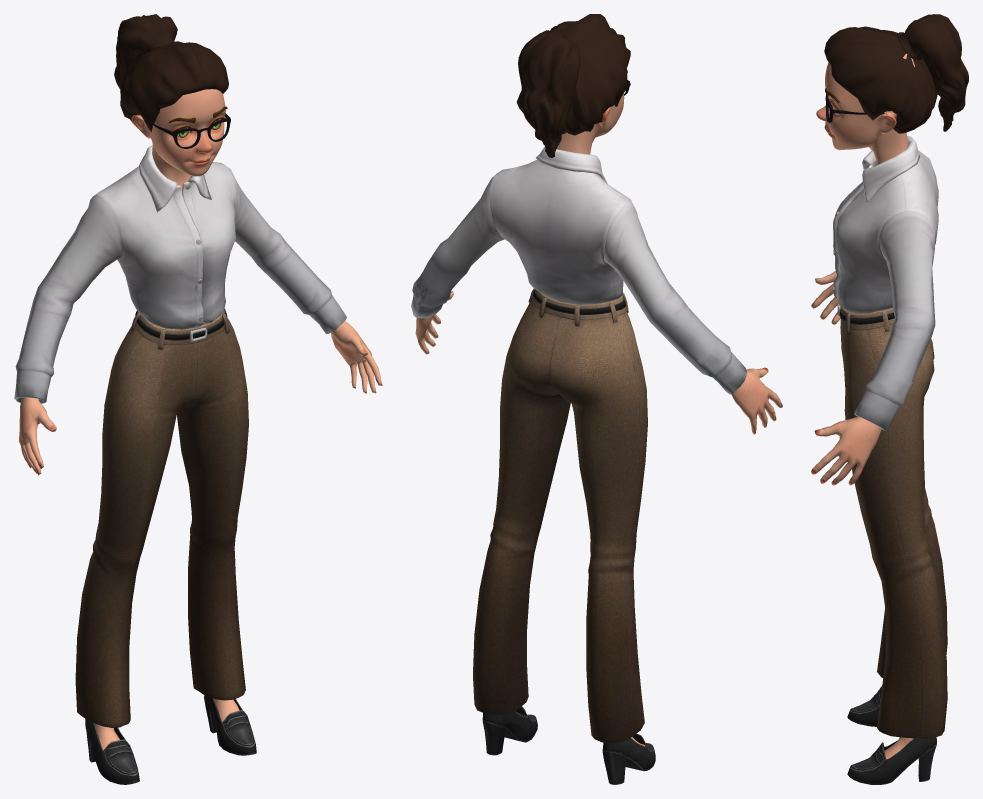
Rendered from Character 3.glb.
3 views of the same model, side by side, from view 1: azimuth 30°, elevation 25°; view 2: azimuth 150°, elevation 25°; view 3: azimuth 270°, elevation 25° (orthographic).
Visible parts, largest first — view 1: RetopoFlow.004; view 2: RetopoFlow.004; view 3: RetopoFlow.004.
Part boxes in pixels (box(x1,y1,x2,y2)): RetopoFlow.004: box(14, 14, 382, 784); RetopoFlow.004: box(411, 14, 782, 784); RetopoFlow.004: box(811, 14, 968, 784).
Size of the model in its own units: 5.16 by 10.44 by 2.04.
7 materials, 7 textured.
